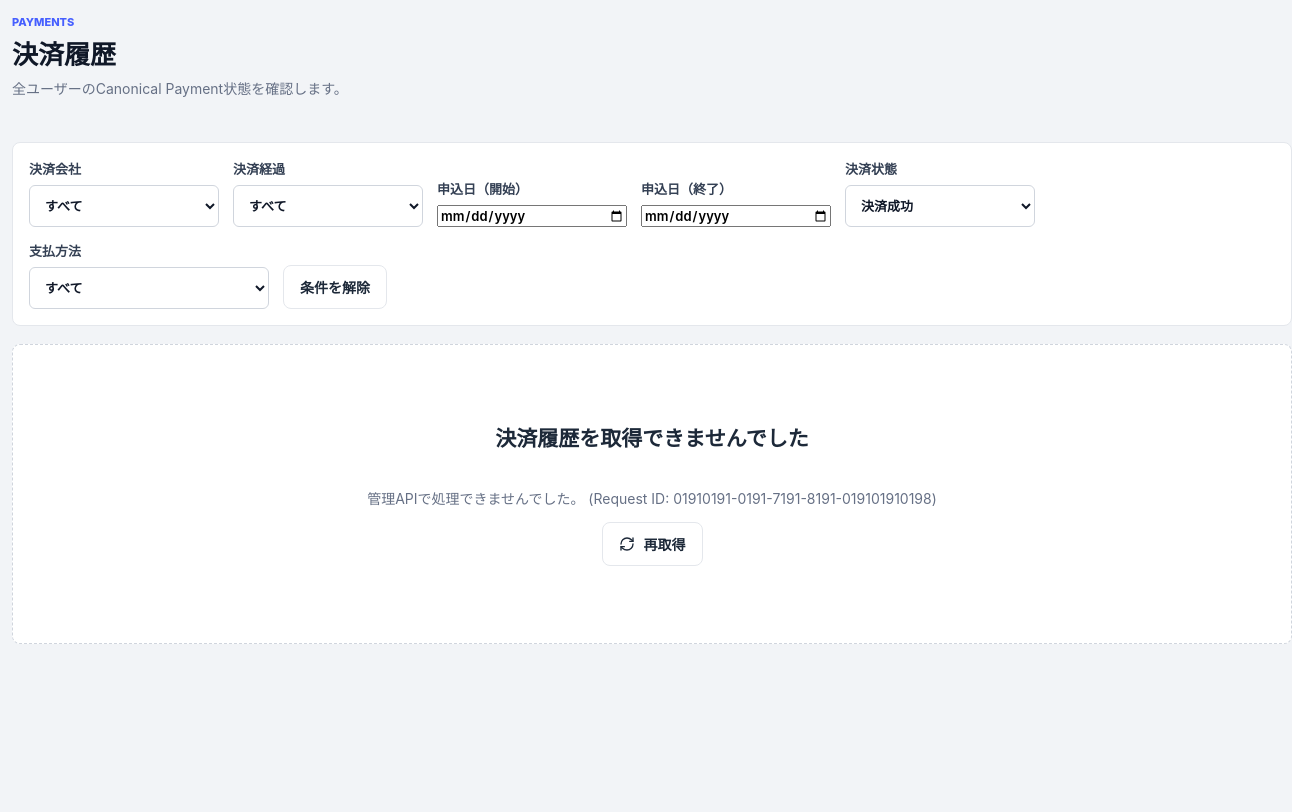
Admin Payment History › does not disguise Problem Details errors as empty data and retries
Expected: the message shows "01910191-0191-7191-8191-019101910198", [367,490,937,507]
Expected: the heading "決済履歴はありません" is not shown
Click the button "再取得".
click(652, 544)  # box [602,522,702,566]
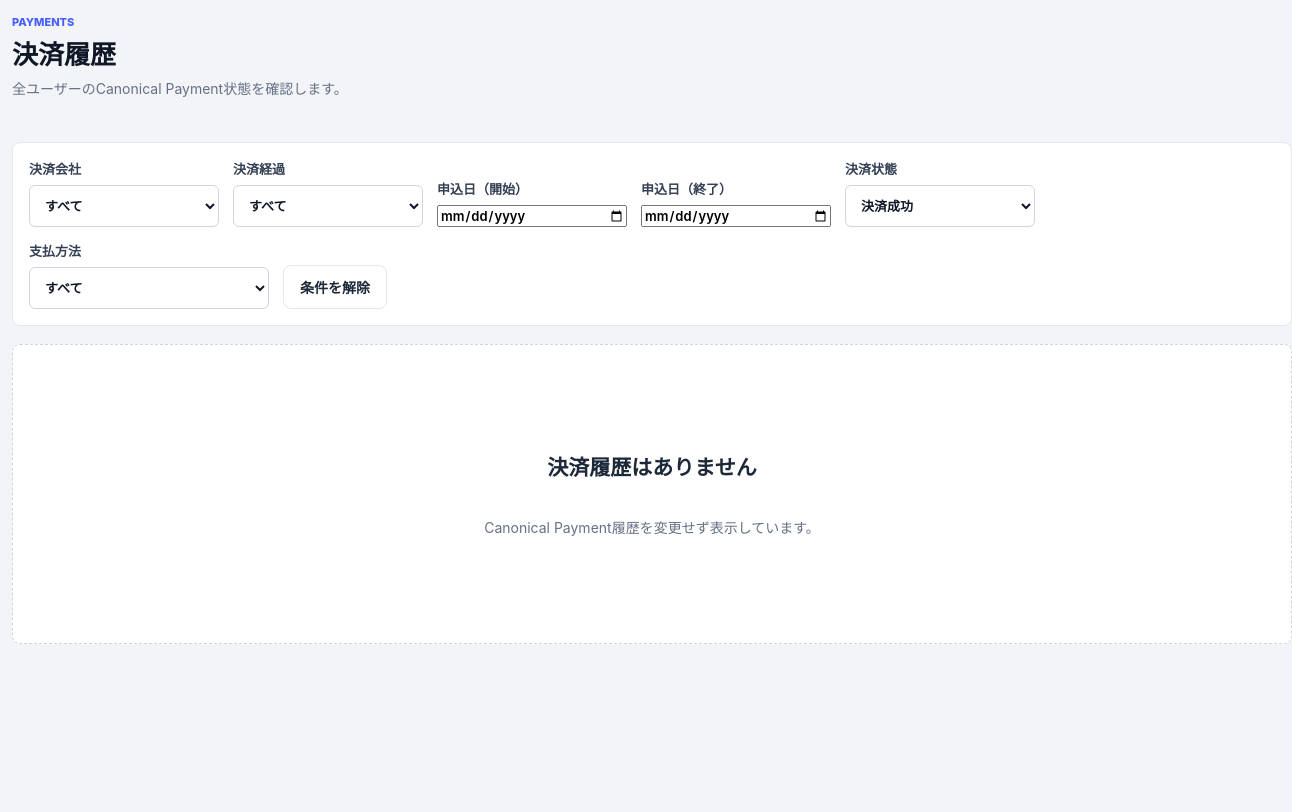
Result: the heading "決済履歴はありません" is shown at [547,451,757,481]
